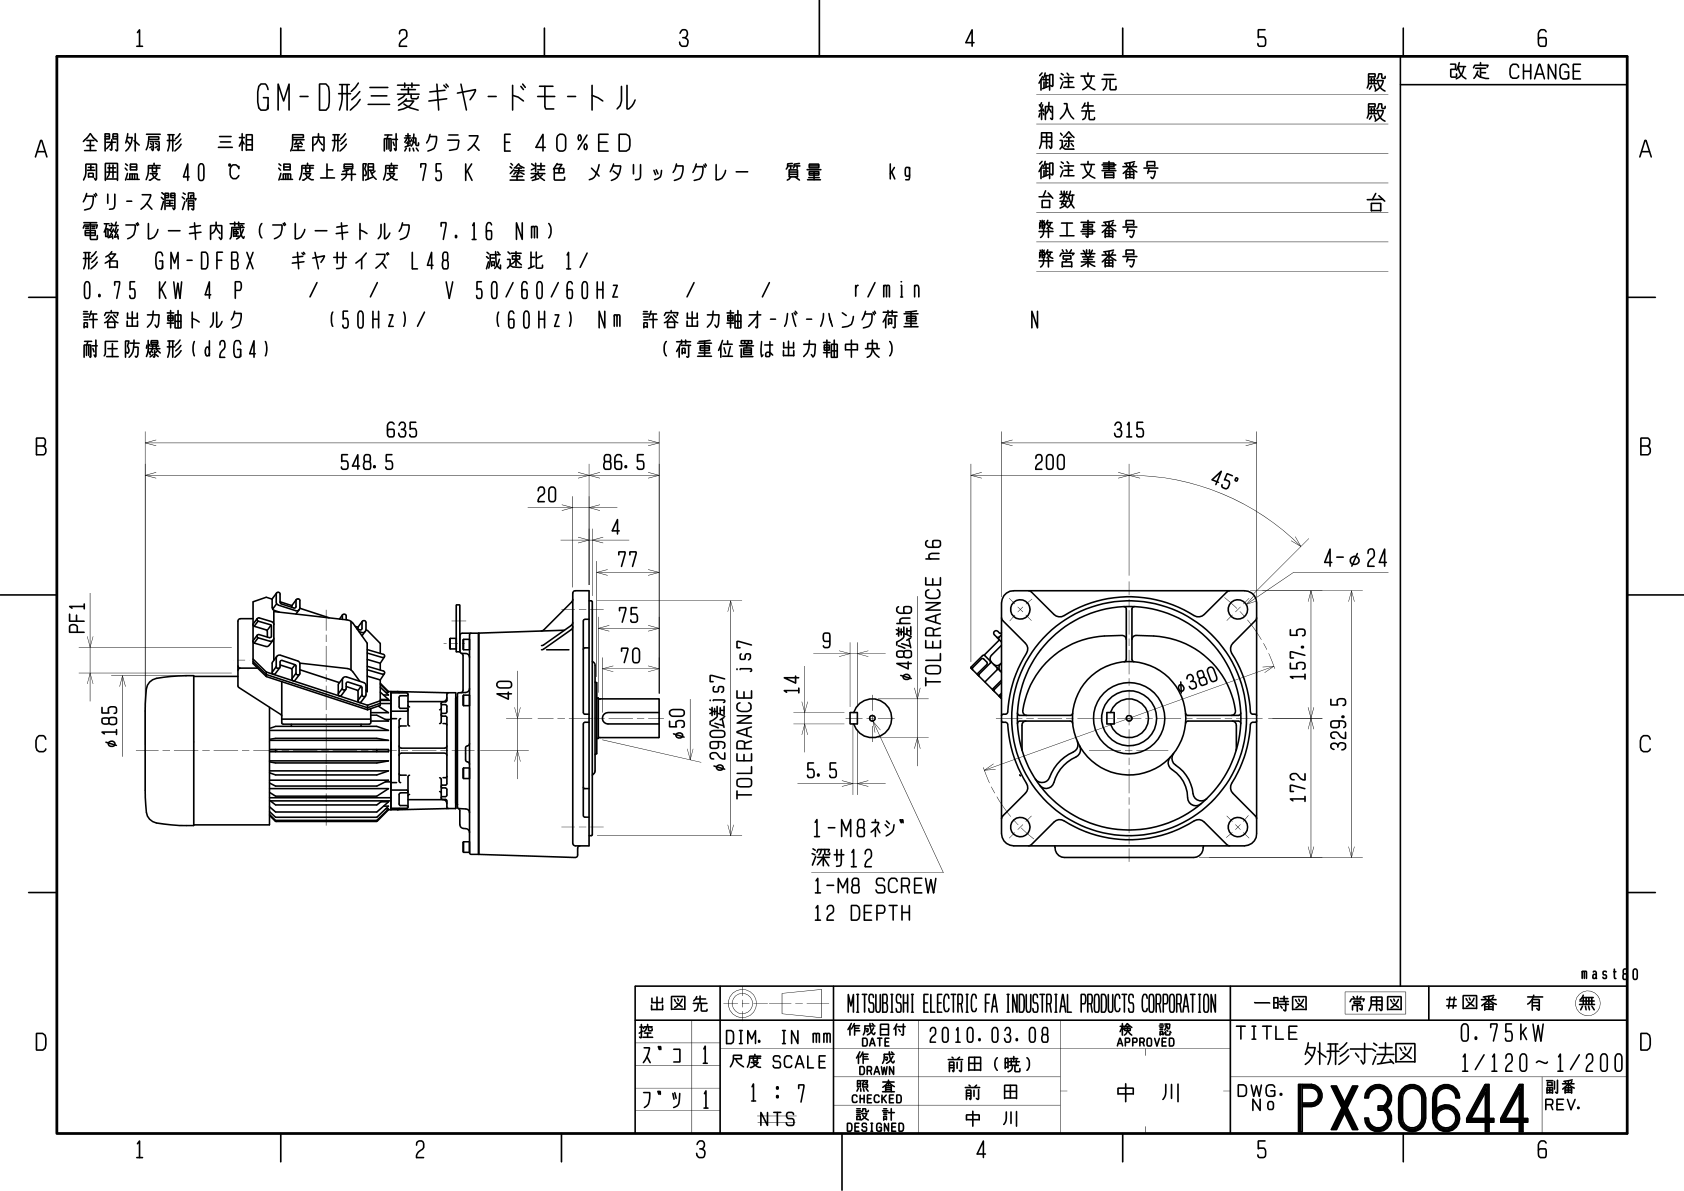GM_SP_屋内＿三相_フランジ: (64, 391, 1395, 938)
